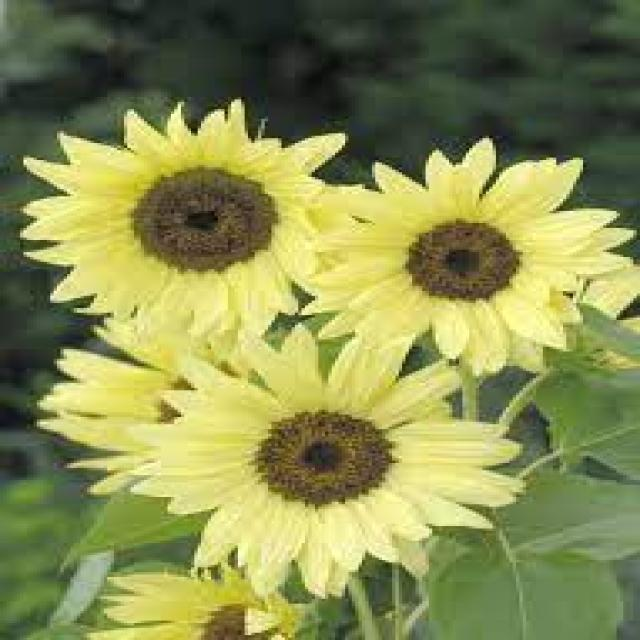sunflower: (127, 308, 554, 604), (9, 97, 382, 356), (315, 131, 640, 378), (29, 312, 342, 507), (77, 545, 322, 640)
